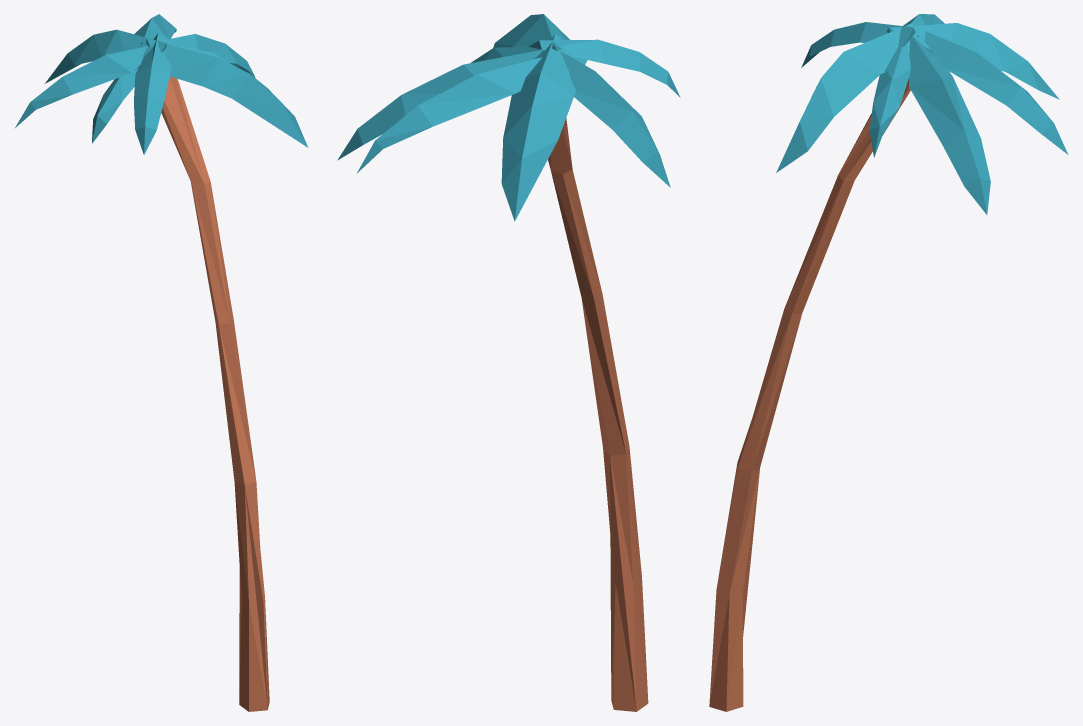
Rendered from Tree_10_summer_blue_mat.fbx.
3 views of the same model, side by side, from view 1: azimuth 30°, elevation 25°; view 2: azimuth 150°, elevation 25°; view 3: azimuth 270°, elevation 25° (orthographic). The views are drawn at different scales.
Visible parts, largest first — view 1: Tree_10_summer_blue_mat; view 2: Tree_10_summer_blue_mat; view 3: Tree_10_summer_blue_mat.
Part boxes in pixels (<box>): Tree_10_summer_blue_mat: <box>15,14,308,711</box>; Tree_10_summer_blue_mat: <box>337,14,680,711</box>; Tree_10_summer_blue_mat: <box>709,14,1068,711</box>.
Size of the model in its own units: 89.06 by 201 by 97.75.
